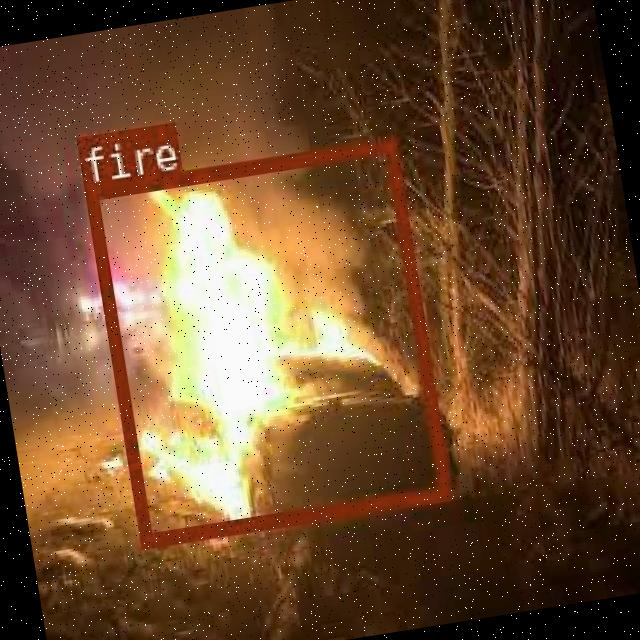fire: (82, 134, 450, 546)
